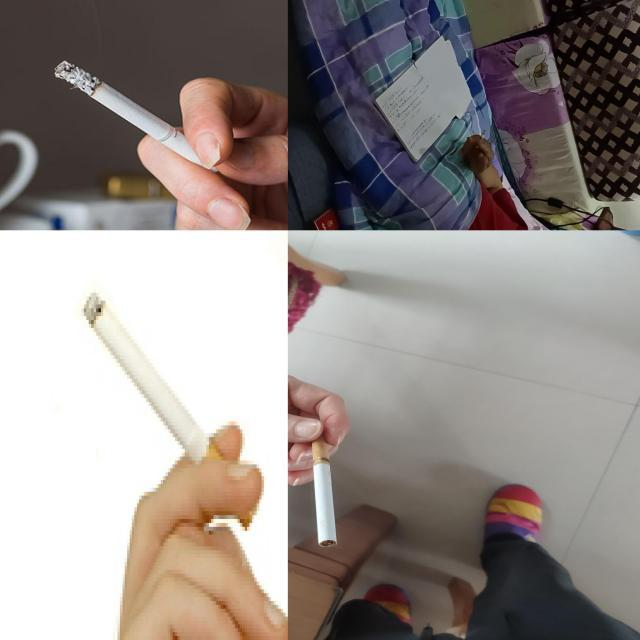cigarette: (79, 284, 218, 464), (52, 59, 222, 174), (310, 434, 340, 548), (475, 130, 486, 149)
